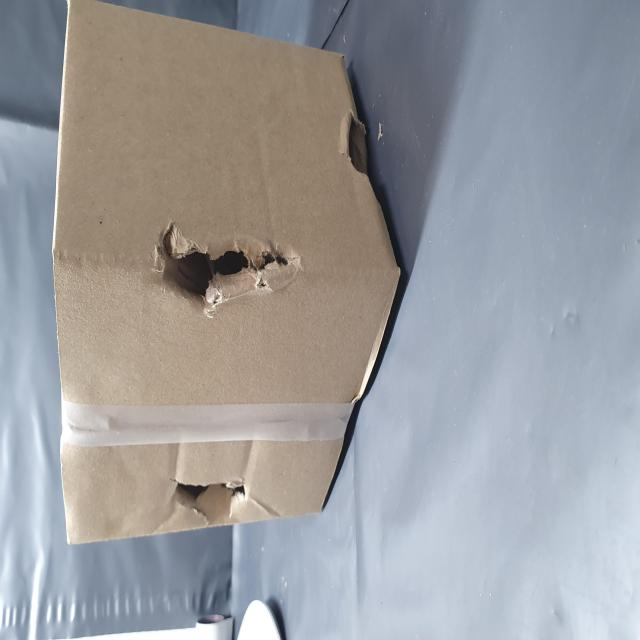damaged: (178, 279, 240, 531), (66, 313, 95, 473), (254, 598, 302, 640)
